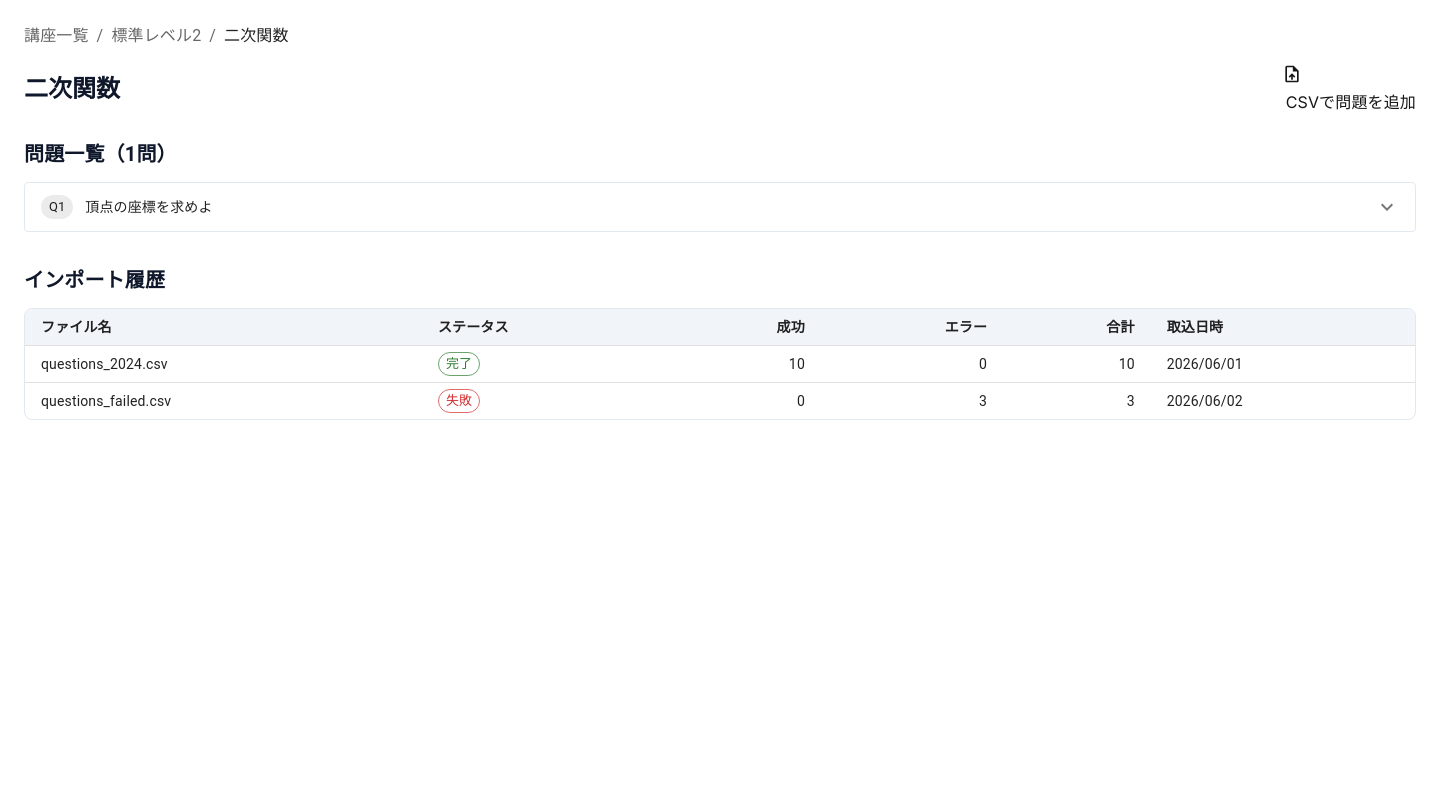
Scenario: UnitDetailPresenter › アコーディオンを展開すると選択肢・ヒント・解説が表示される
Click the button "Q1 頂点の座標を求めよ". click: (57, 207)
box: top-left (25, 183), bottom-right (1415, 231)
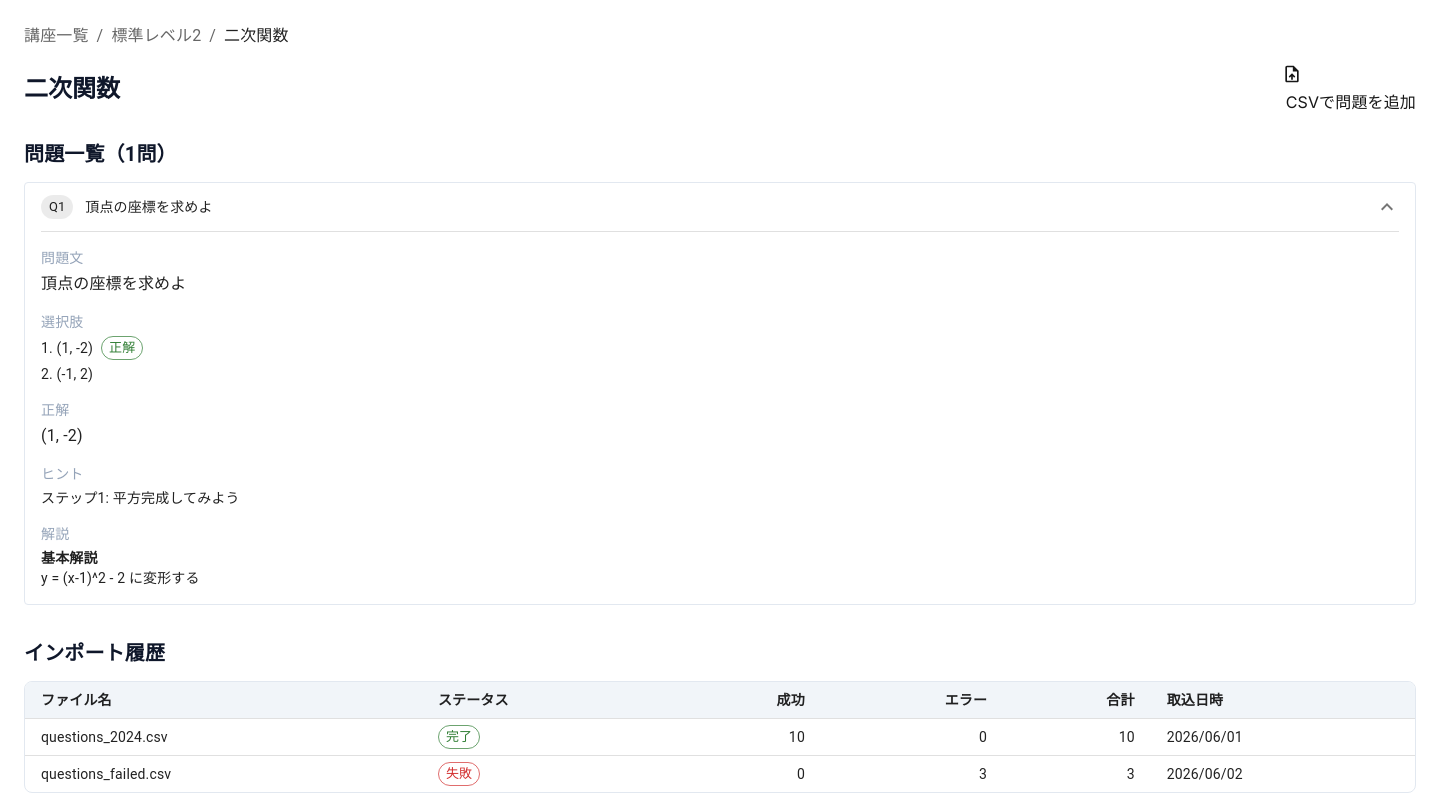
Now the text "2. (-1, 2)" is shown, box top-left (41, 364), bottom-right (93, 384)
Now the text "ステップ1: 平方完成してみよう" is shown, box top-left (41, 490), bottom-right (240, 506)
Now the text "y = (x-1)^2 - 2 に変形する" is shown, box top-left (41, 570), bottom-right (200, 586)
